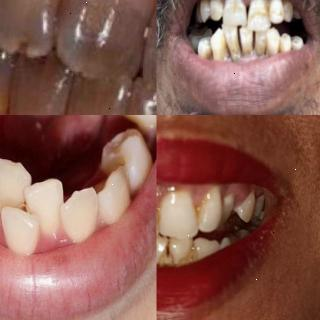calculus: (156, 242, 176, 268), (181, 246, 205, 266), (225, 48, 241, 64), (201, 46, 215, 62), (240, 44, 254, 58), (252, 49, 268, 61)
maligned: (27, 173, 72, 233), (0, 201, 44, 255), (57, 180, 95, 238), (0, 154, 28, 207), (214, 189, 238, 228)
stains: (188, 199, 208, 227), (156, 202, 168, 228)
